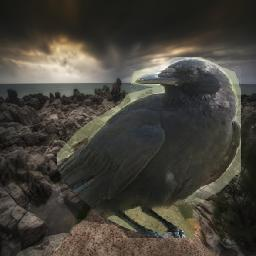Crow: (57, 58, 241, 239)
